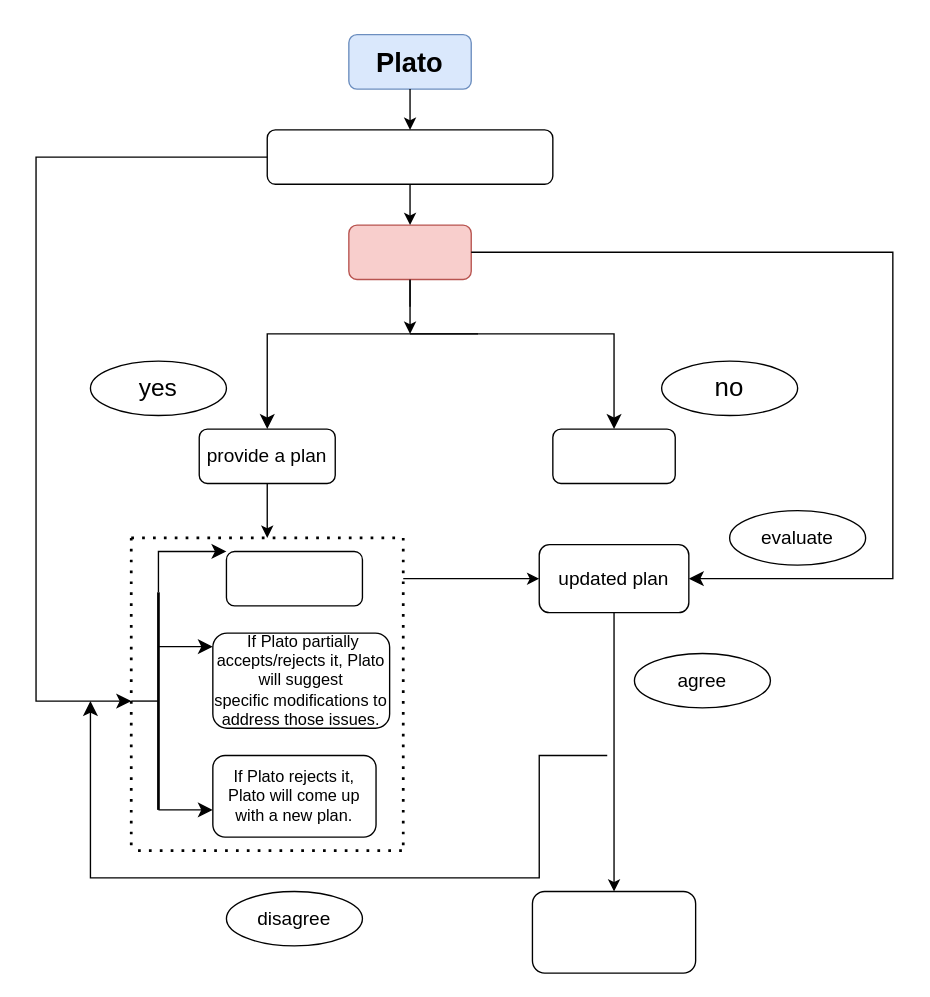
Image size: 930x997. Some labels were removed from this diagram. Here are the shapes that lost their labels. From the top down, the box of each, then its label:
(266, 129, 553, 184): ask Alice if she has a plan and provide a initial plan
(347, 224, 471, 279): Alice
(551, 428, 675, 483): accept Plato's plan
(225, 550, 362, 606): If Plato accepts it, Plato will send an acknowledgment.
(531, 890, 696, 973): fina plan and start imitate executing
